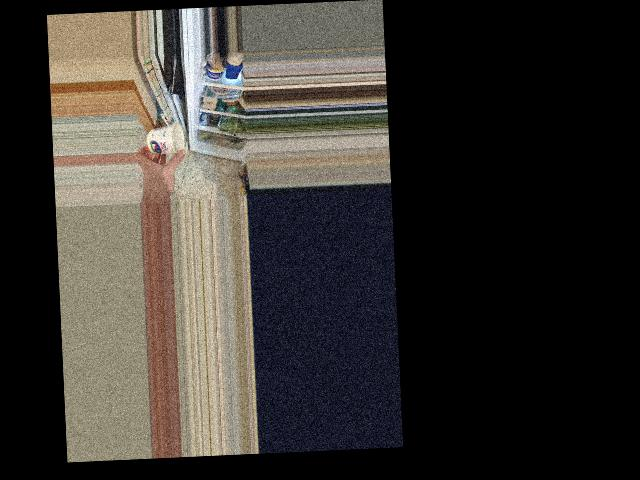cotage: (146, 123, 184, 156)
